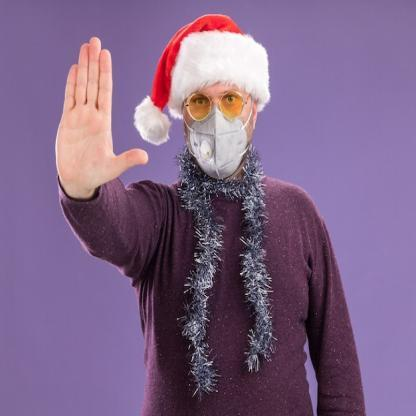stop: (57, 34, 149, 200)
